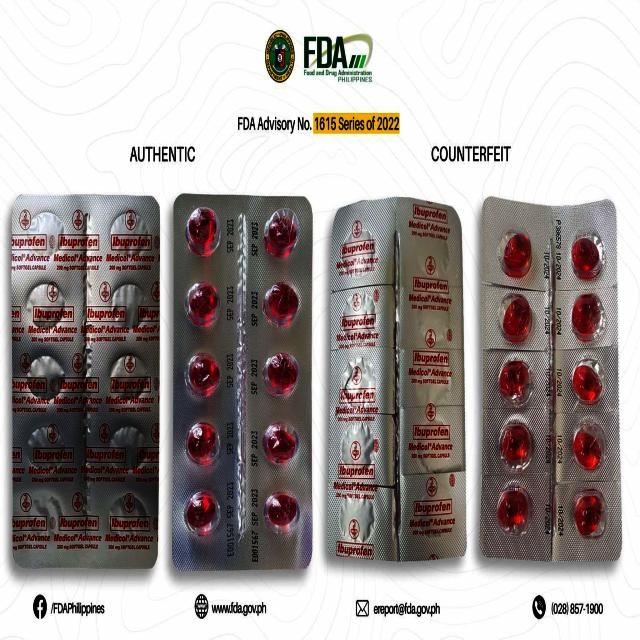authentic: (14, 192, 158, 568), (176, 196, 312, 570)
counterfeit: (482, 194, 622, 564), (335, 202, 465, 564)
